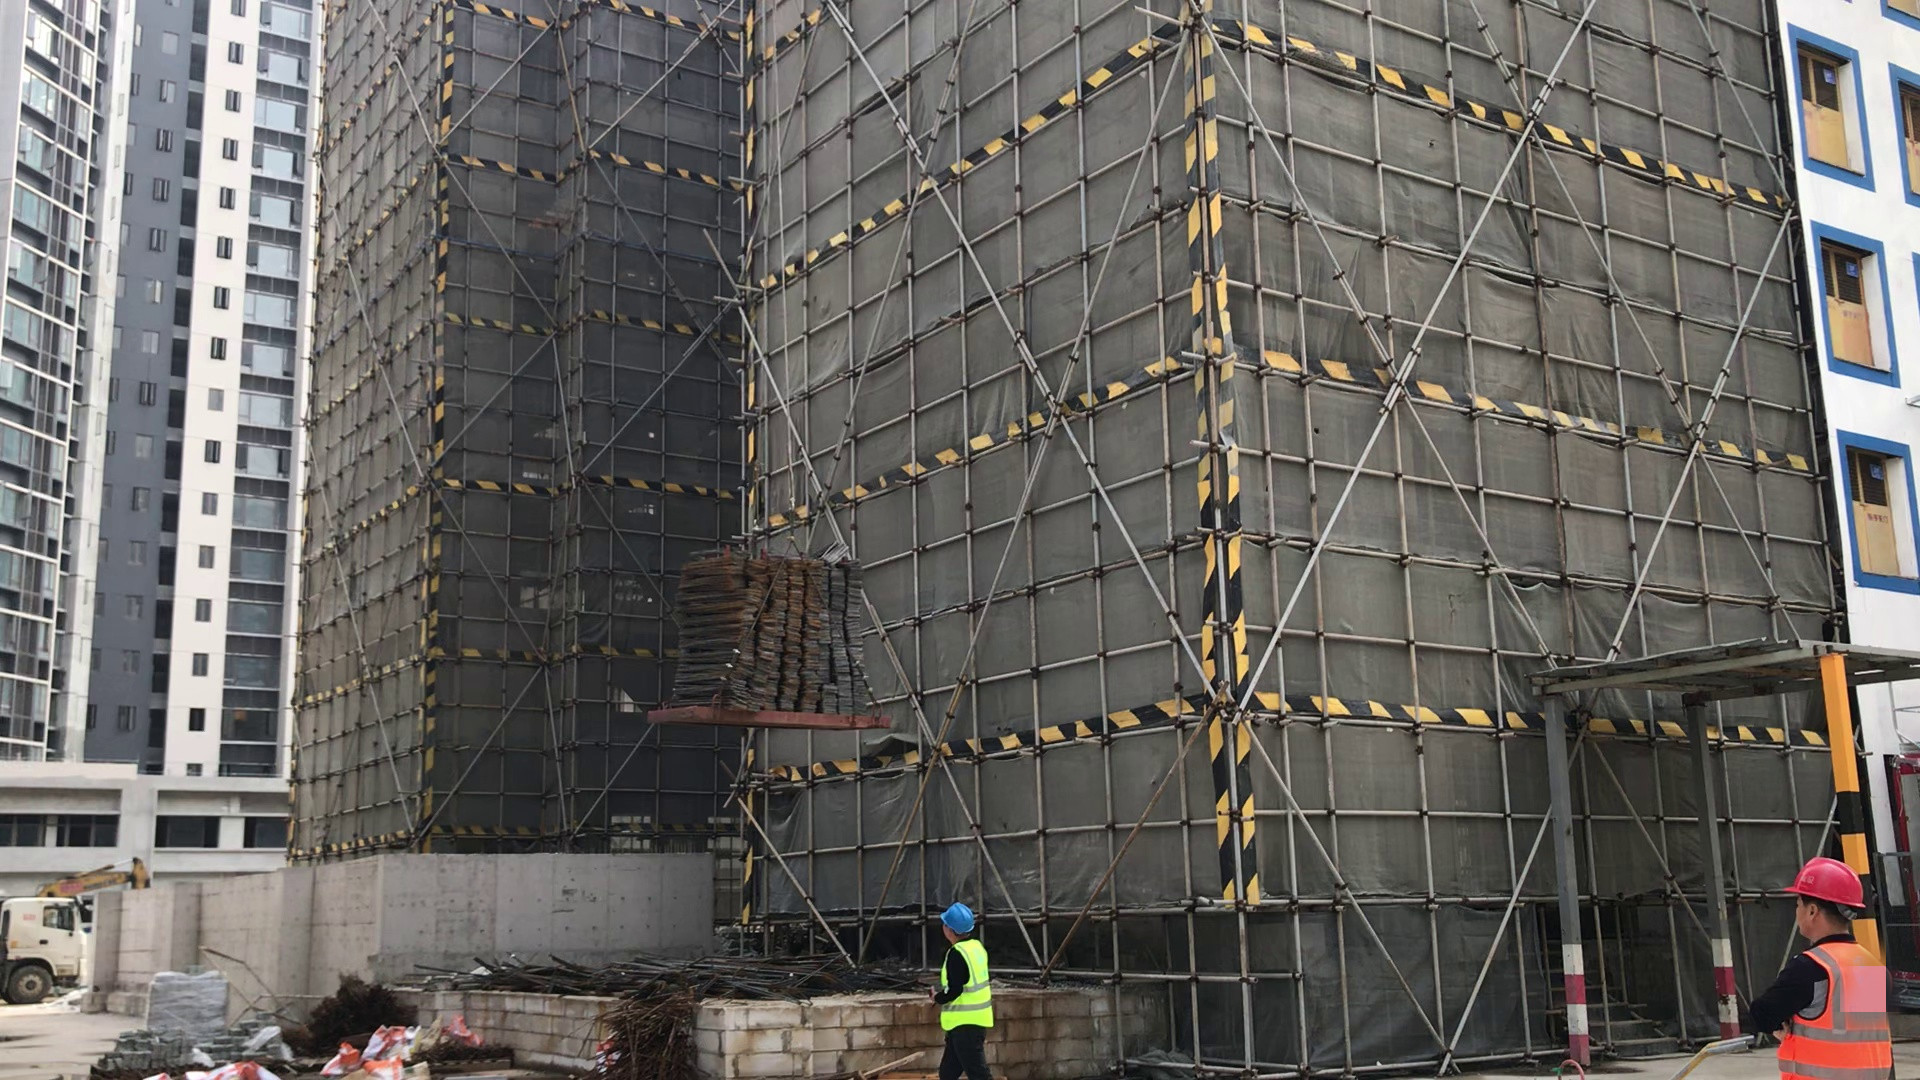helmet: (1785, 854, 1874, 913), (941, 904, 976, 940)
person: (1735, 849, 1897, 1080), (936, 898, 1014, 1080)
vest: (1781, 934, 1908, 1080), (936, 942, 1004, 1037)
